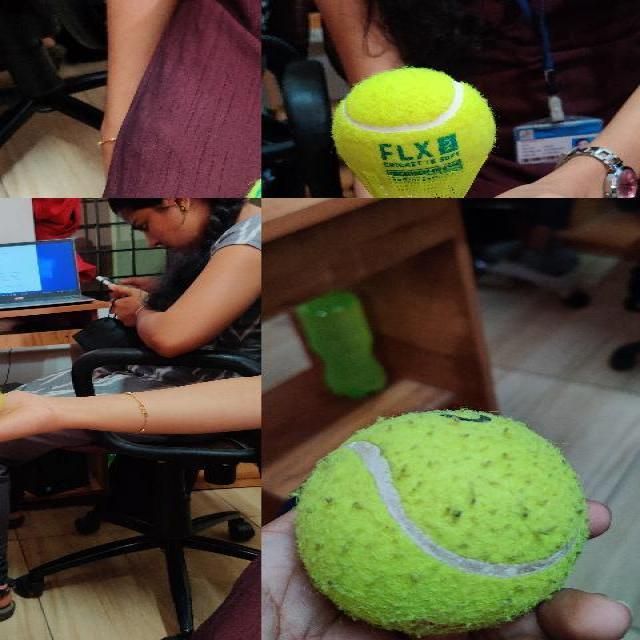tennis-ball: (296, 408, 588, 632), (333, 68, 495, 156)
